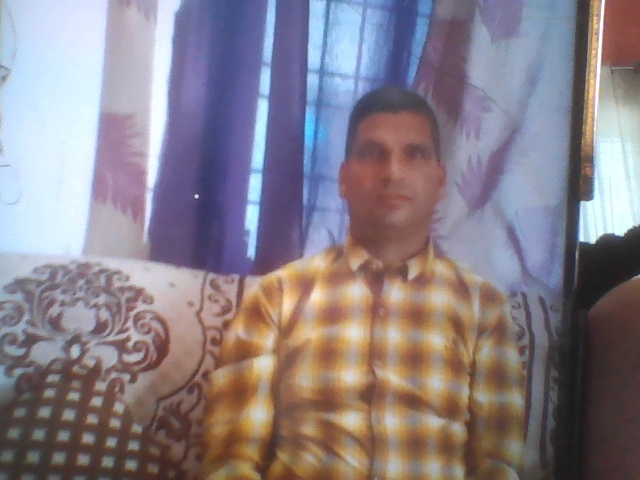fake: (334, 60, 462, 241)
